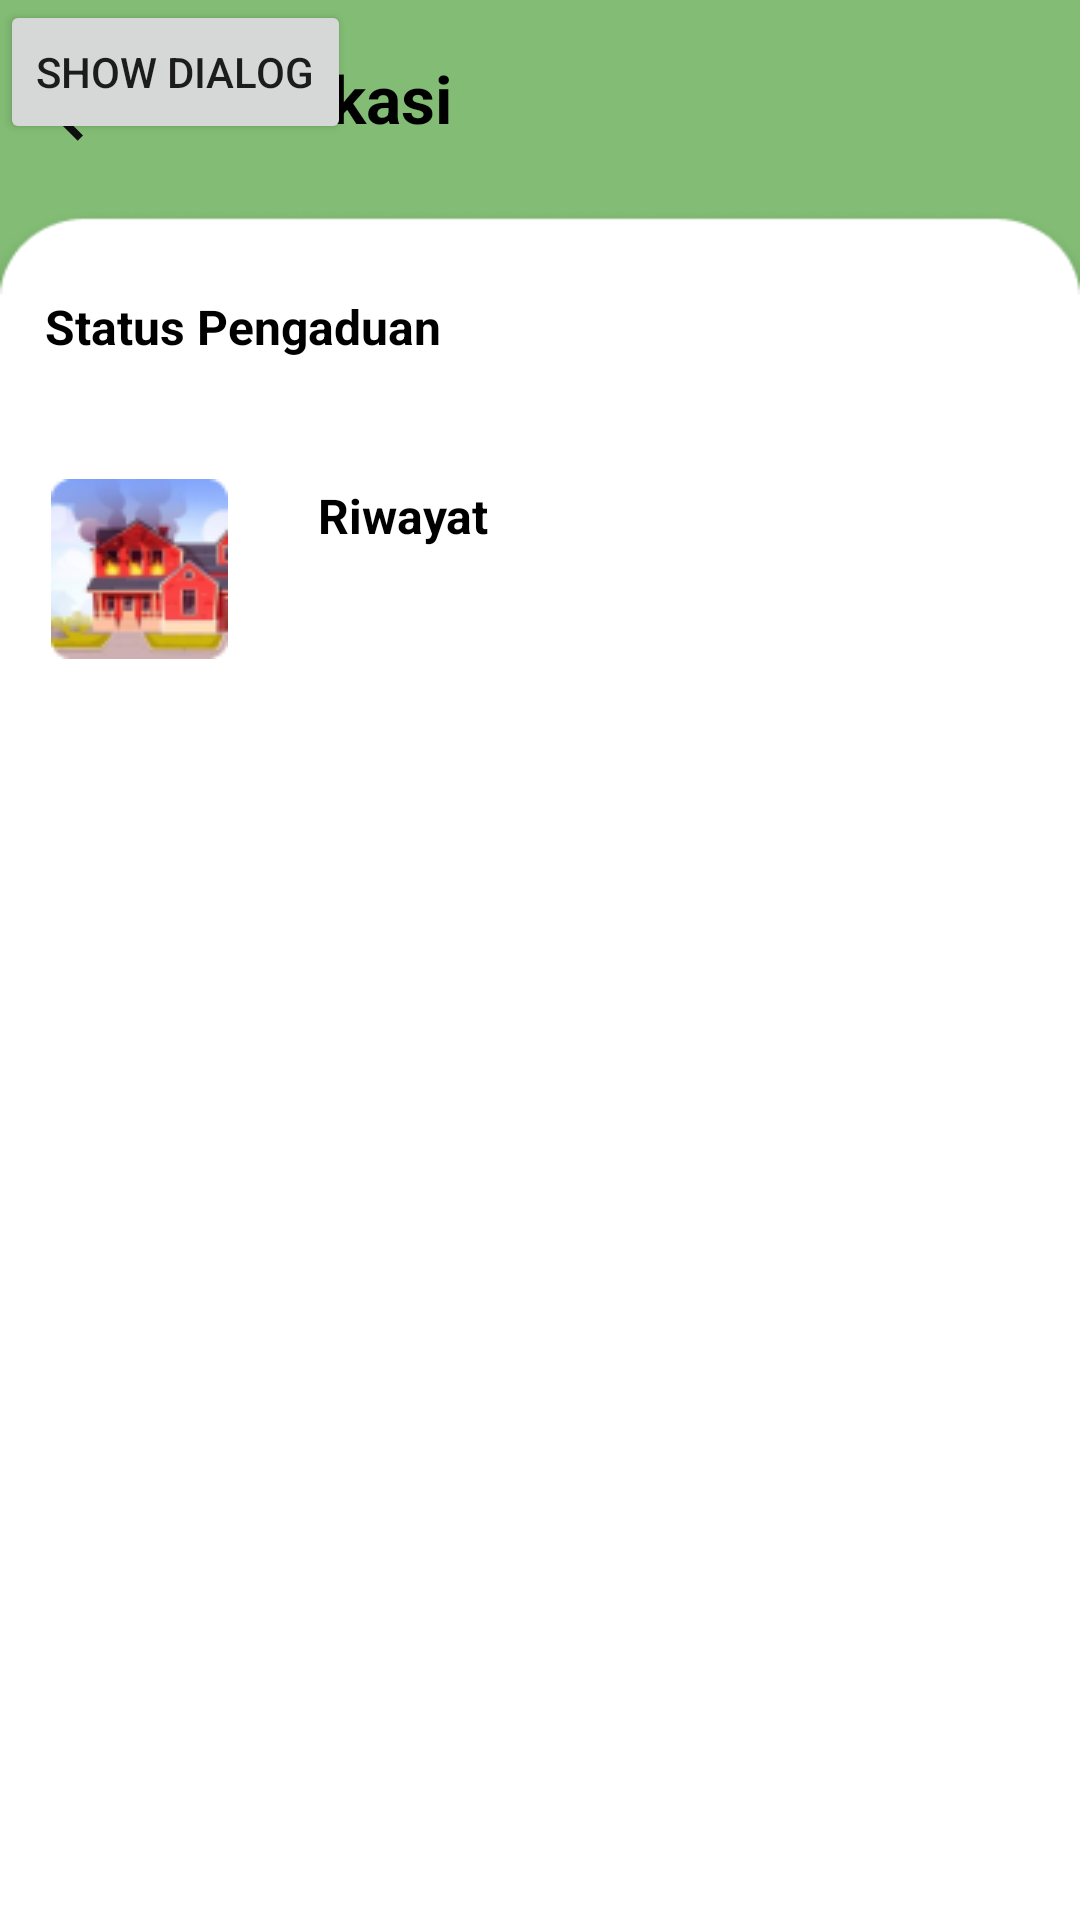

Named icons in this screenshot (1080px×1920px) and their bounding boxes, [x1, y1, x2, y2]:
foto: [51, 479, 228, 659]
